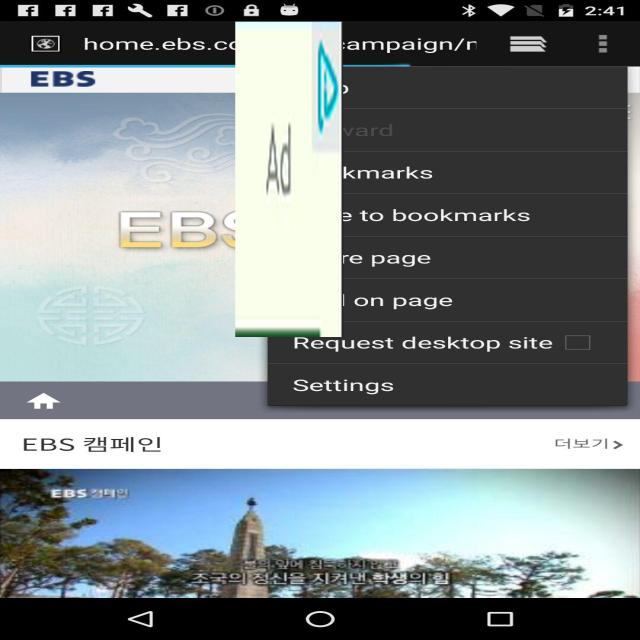sneaking: (235, 22, 343, 337)
